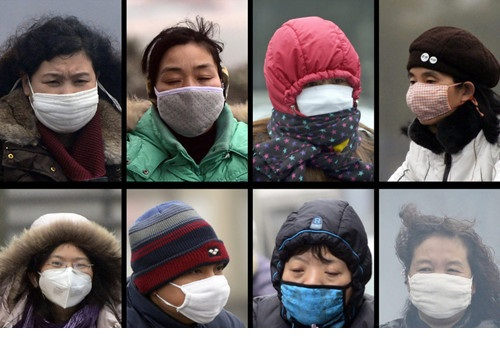face_mask: (286, 50, 358, 141), (280, 243, 351, 323), (408, 239, 473, 320), (153, 45, 221, 115), (171, 242, 230, 322), (31, 53, 98, 120), (40, 242, 95, 309), (405, 60, 450, 124)
